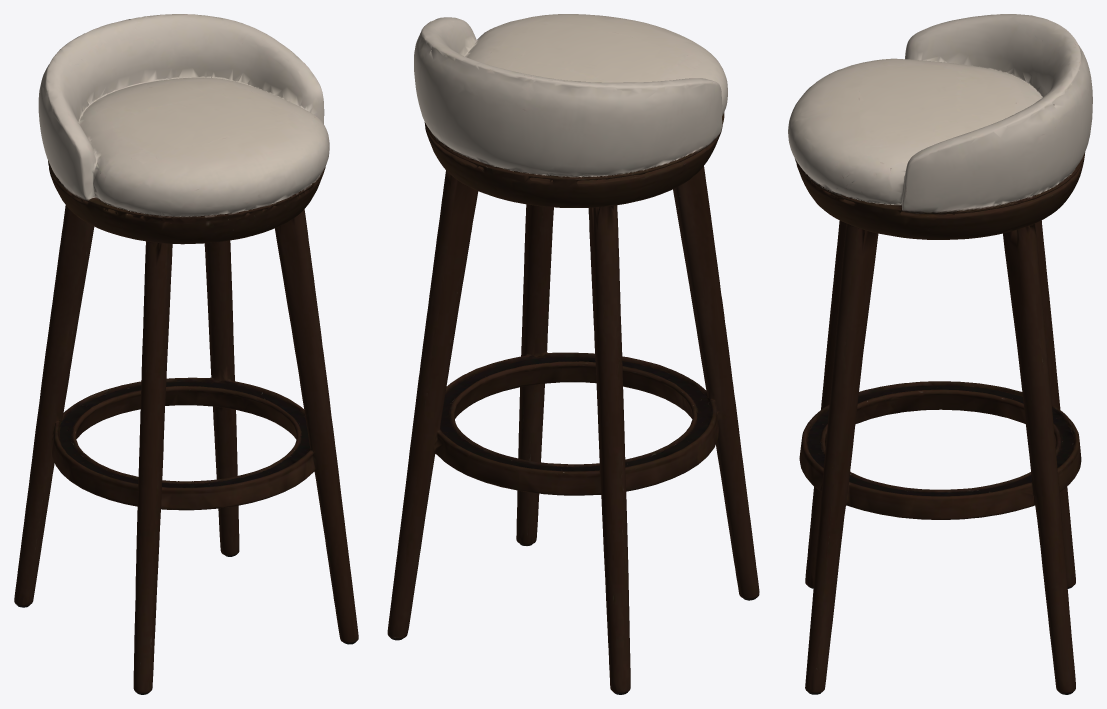
The model's file is curved-back-bar-stool.glb.
The picture shows the model from 3 angles, left to right: view 1: azimuth 30°, elevation 25°; view 2: azimuth 150°, elevation 25°; view 3: azimuth 270°, elevation 25°; orthographic projection. The views are drawn at different scales.
Parts seen in each view (by area): view 1: world; view 2: world; view 3: world.
Boxes of the visible parts, x1=… form: world: x1=14, y1=14, x2=358, y2=694; world: x1=387, y1=14, x2=759, y2=694; world: x1=788, y1=14, x2=1092, y2=694.
Size of the model in its own units: 0.4738 by 1 by 0.4759.
Materials: 1 (1 with a texture image).
